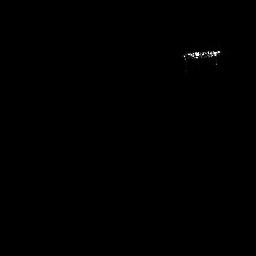ship: (181, 48, 222, 68)
